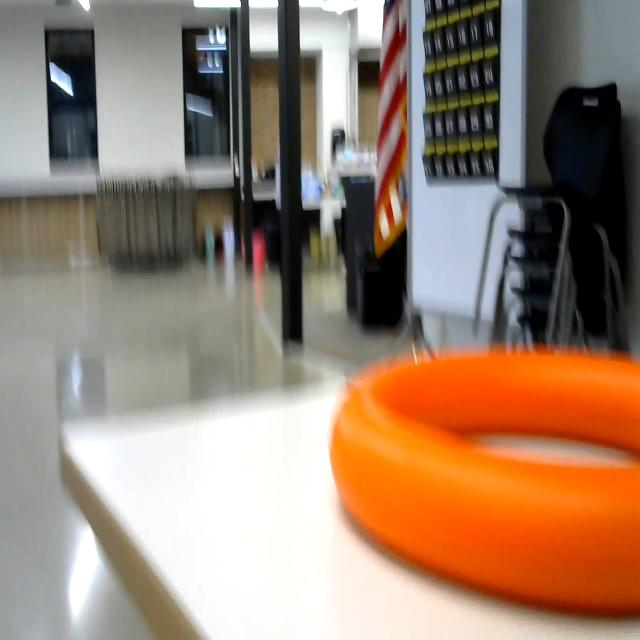note: (326, 316, 640, 632)
